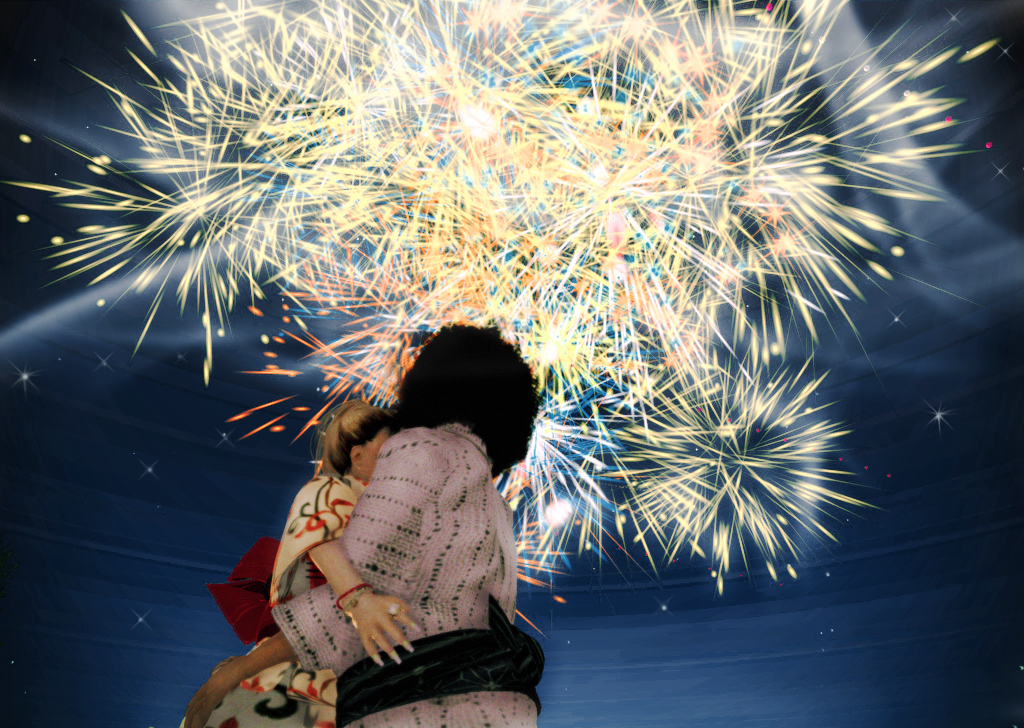face: (354, 422, 395, 483)
